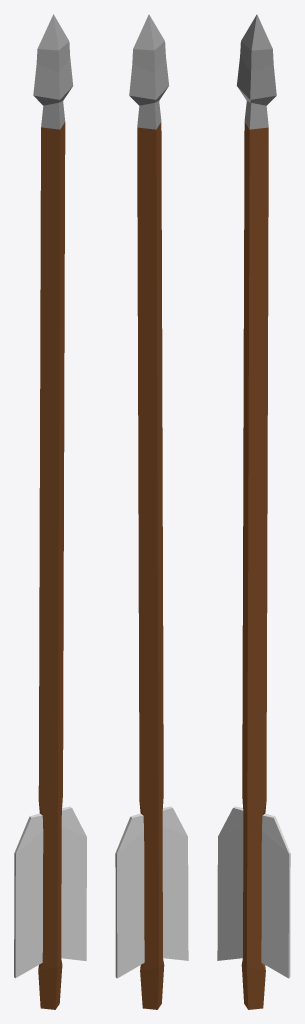
Rendered from Low Poly Weapon Pack - by Kickin It Studios.fbx_Bullet_Arrow.glb.
3 views of the same model, side by side, from view 1: azimuth 30°, elevation 25°; view 2: azimuth 210°, elevation 25°; view 3: azimuth 330°, elevation 25° (orthographic).
Visible parts, largest first — view 1: Bullet Arrow; view 2: Bullet Arrow; view 3: Bullet Arrow.
Boxes of the visible parts, left/top/right/bottom form: Bullet Arrow: left=14, top=14, right=86, bottom=1009; Bullet Arrow: left=115, top=14, right=188, bottom=1009; Bullet Arrow: left=217, top=14, right=290, bottom=1009.
Bounding box in the file's own units: 0.0619 × 0.8201 × 0.021.
